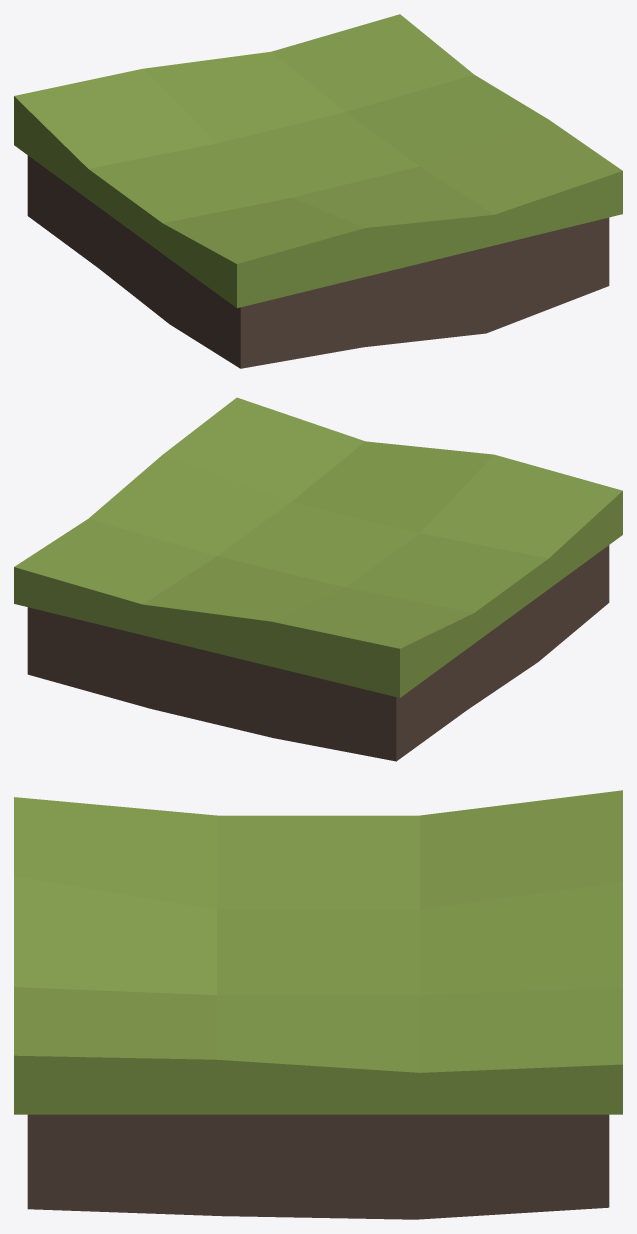
The model's file is world-filed_01.fbx.
3 renders of one model, top to bottom at view 1: azimuth 30°, elevation 25°; view 2: azimuth 150°, elevation 25°; view 3: azimuth 270°, elevation 25°, orthographic. The views are drawn at different scales.
Visible parts, largest first — view 1: world-filed_01; view 2: world-filed_01; view 3: world-filed_01.
Boxes of the visible parts, x1,y1,x2,y2 form: world-filed_01: (14, 14, 622, 368); world-filed_01: (14, 397, 622, 761); world-filed_01: (14, 790, 622, 1219).
Bounding box in the file's own units: 1968 × 682 × 1968.
